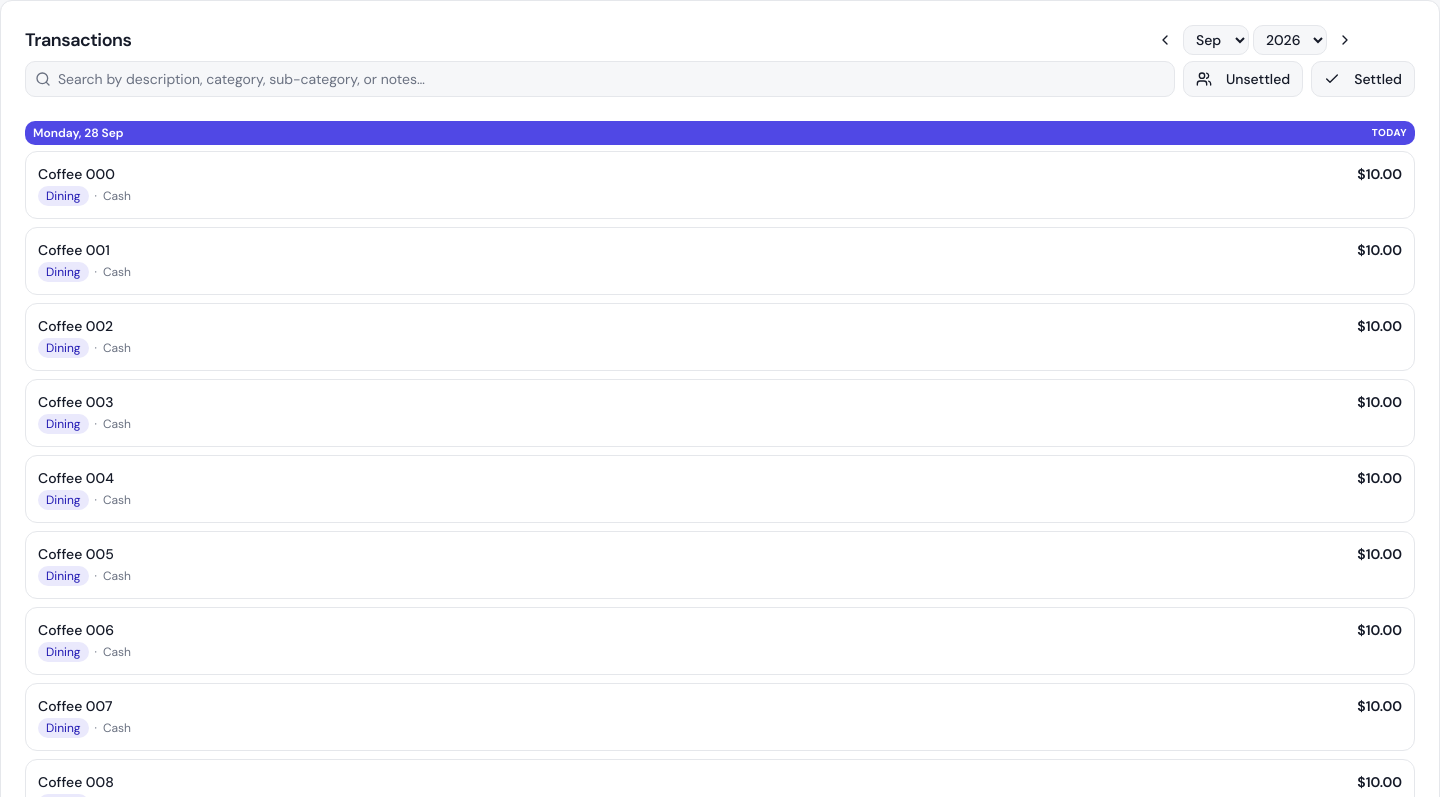
Test: TransactionList search › re-applies the cap to the next search
Type "coffee" into the field with placeholder "Search by description, category, sub-category, or notes…" at (600, 79), box x1=25 y1=61 x2=1175 y2=97
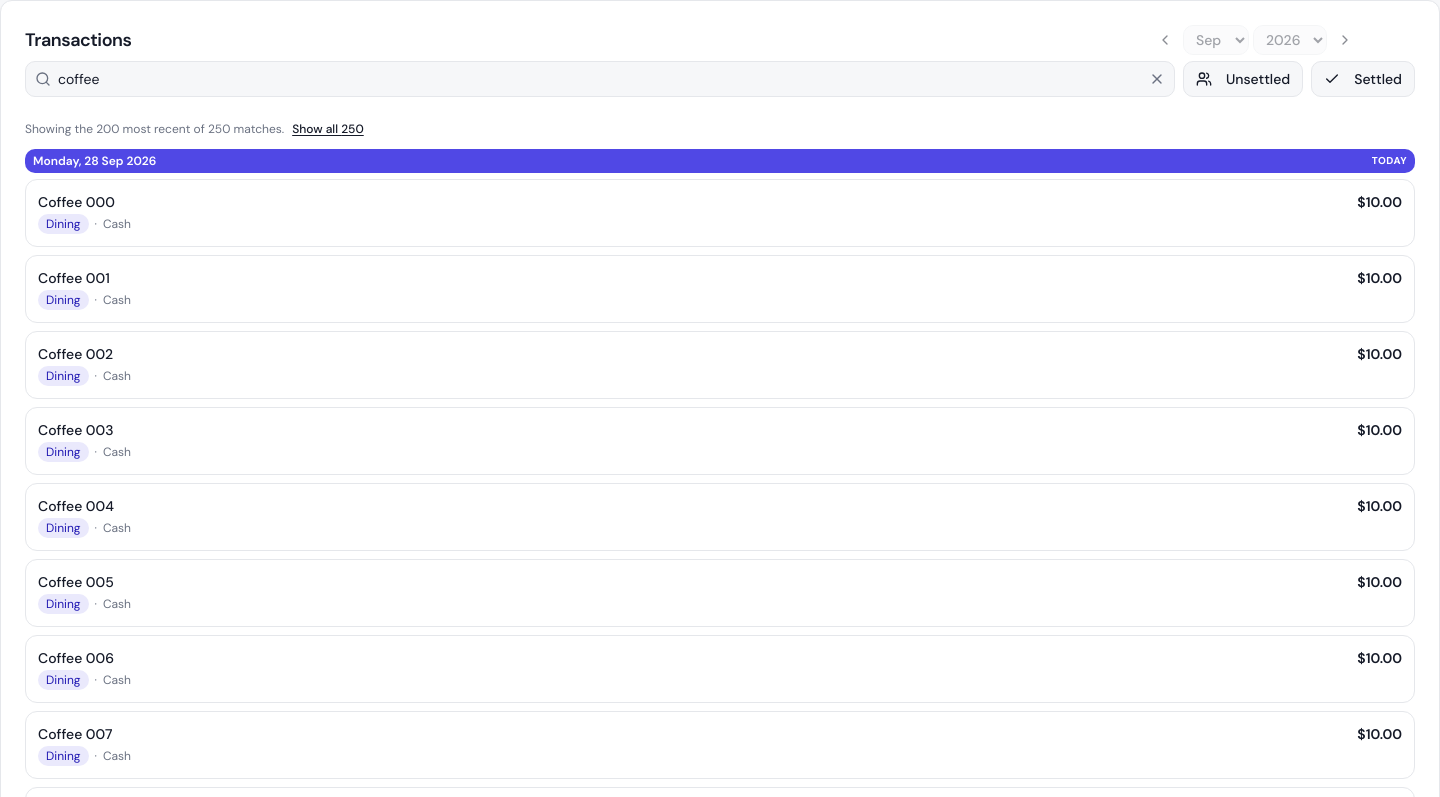
Check: the text "Coffee 000" is shown 200 times
Click the button "Show all 250" at (328, 129), box x1=292 y1=121 x2=364 y2=137
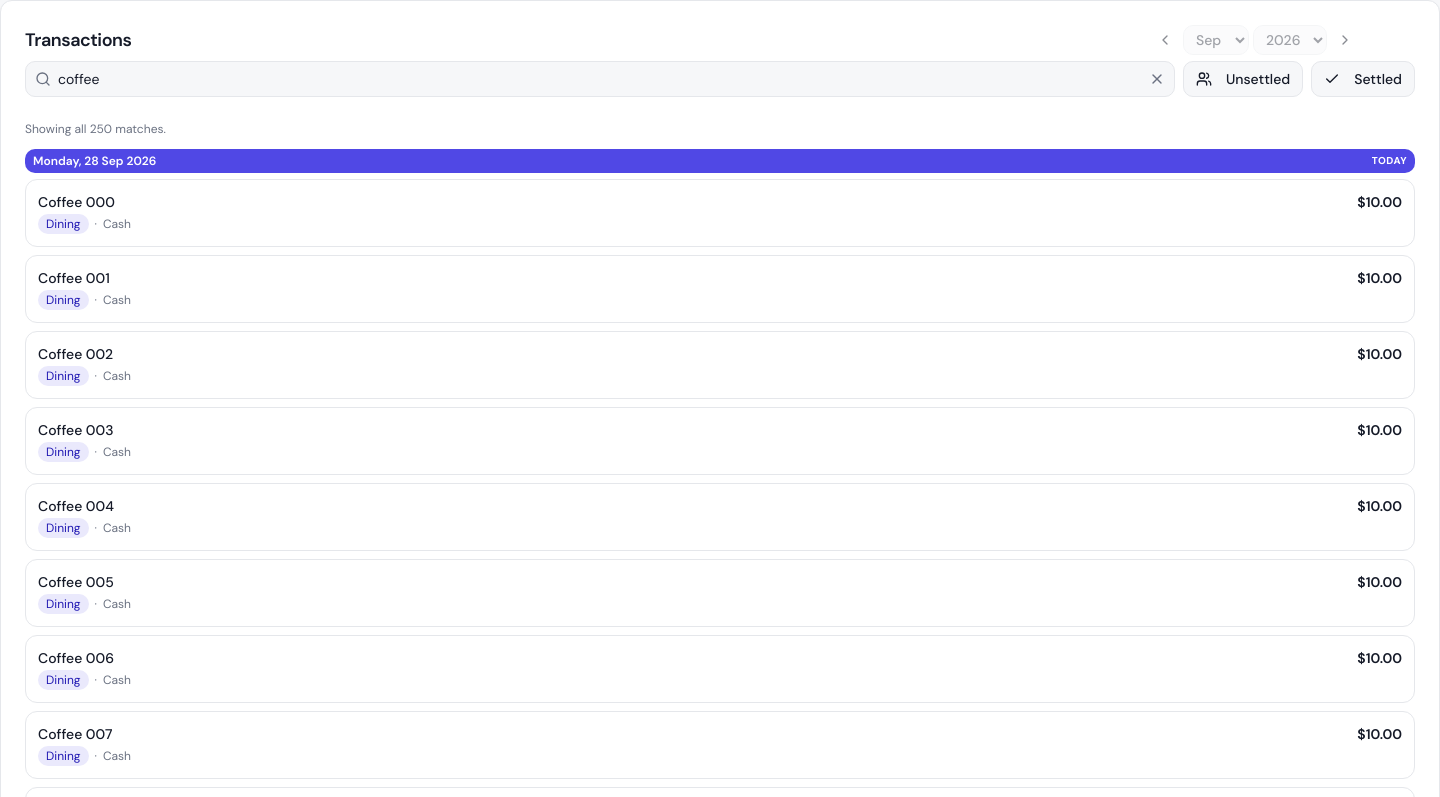
Replace the text in the field with placeholder "Search by description, category, sub-category, or notes…" with "tea" at (600, 79), box x1=25 y1=61 x2=1175 y2=97
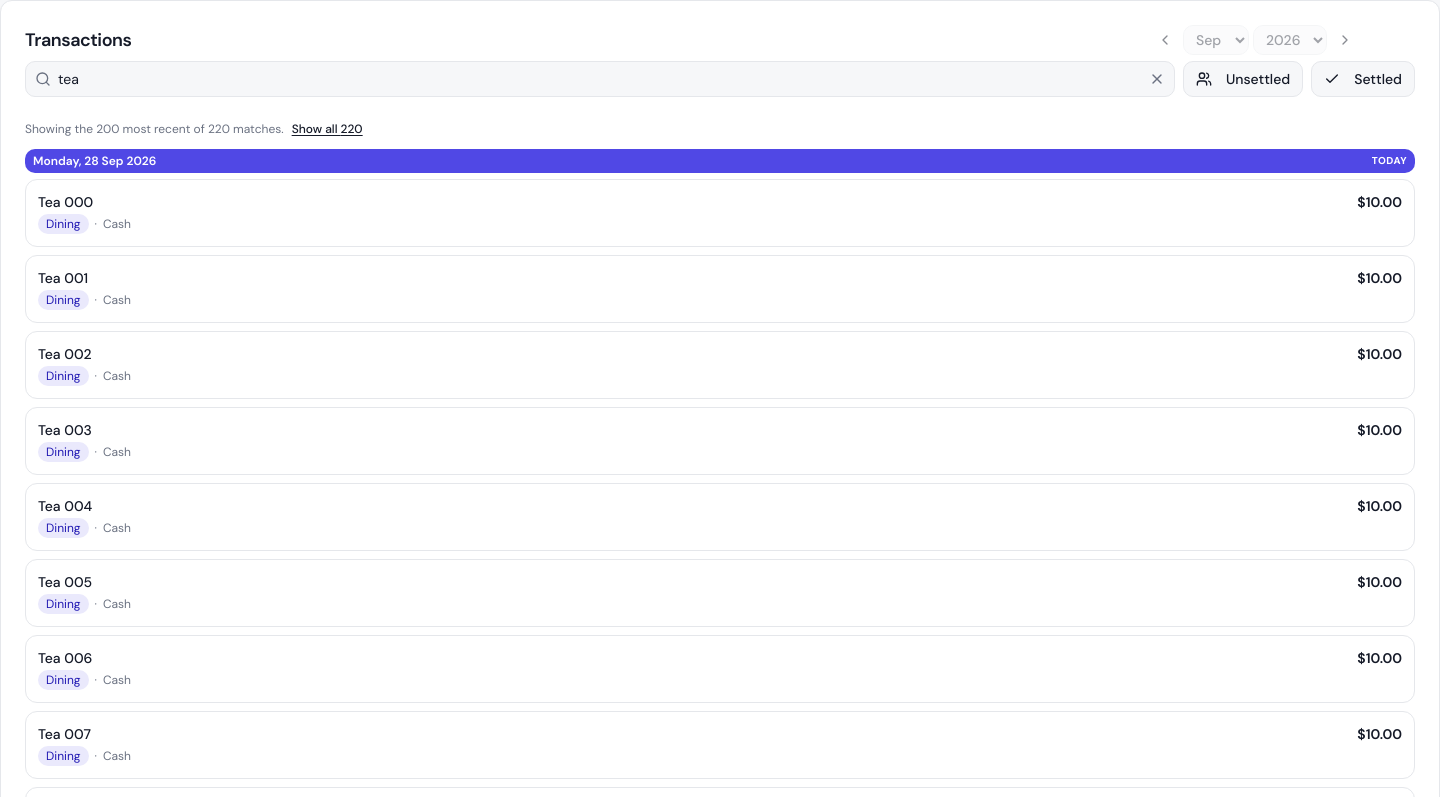
Check: the text "Showing the 200 most recent of 220 matches." is shown, box x1=25 y1=121 x2=284 y2=137
Check: the text "Tea 000" is shown 200 times
